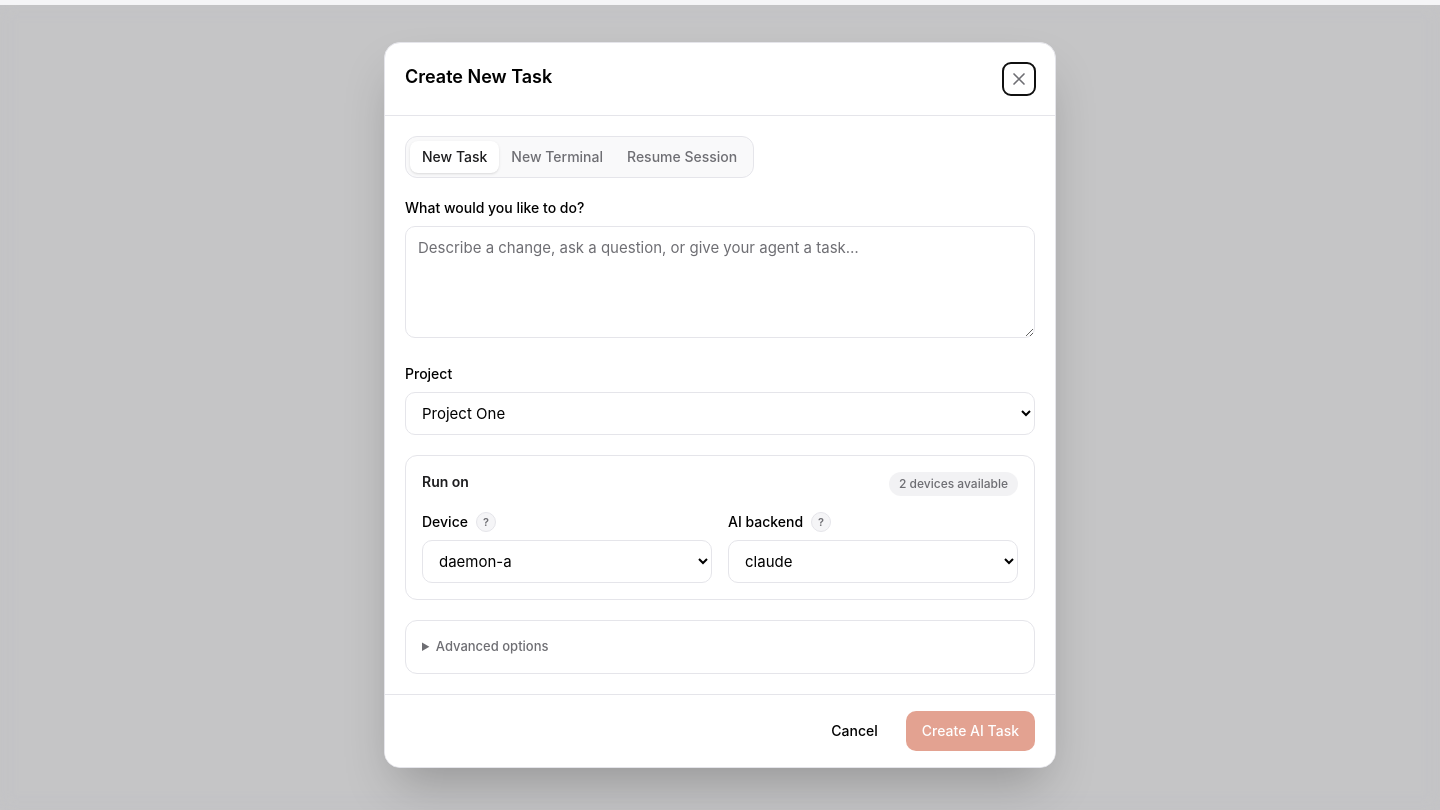
Test: CreateTaskDialog › warns in the New Terminal tab when no PTY-capable daemon is online
Click the tab "New Terminal" at (557, 157), box [499,141,615,173]
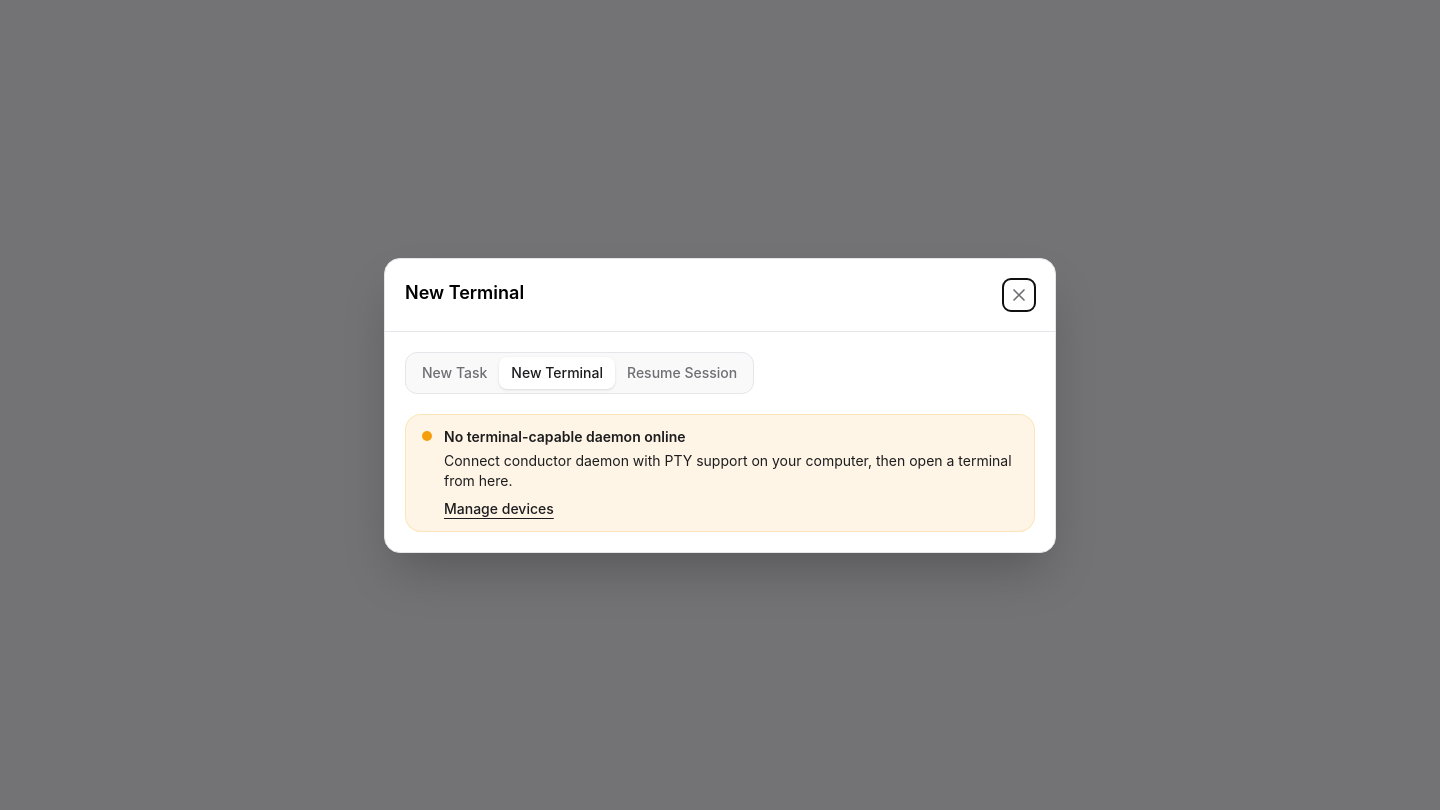
Expected: the text "No terminal-capable daemon online" is shown, [444,428,686,444]
